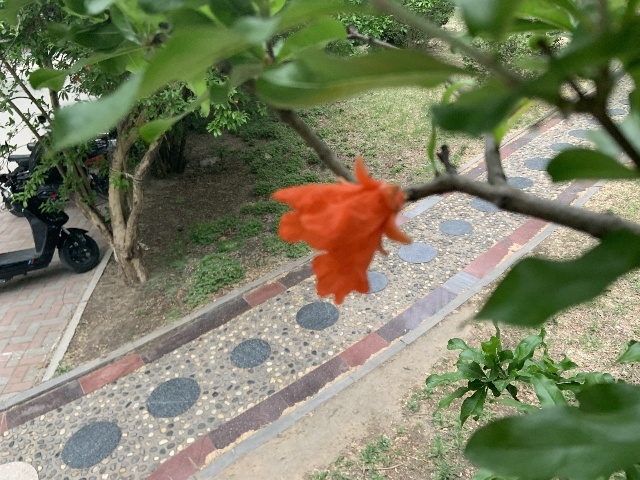flower: (269, 155, 412, 305), (73, 77, 77, 80)
